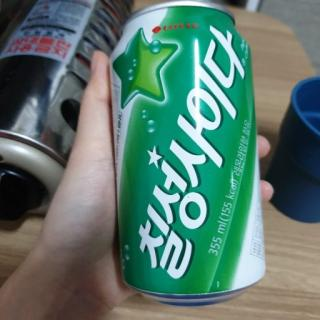cocacola: (109, 0, 268, 308)
